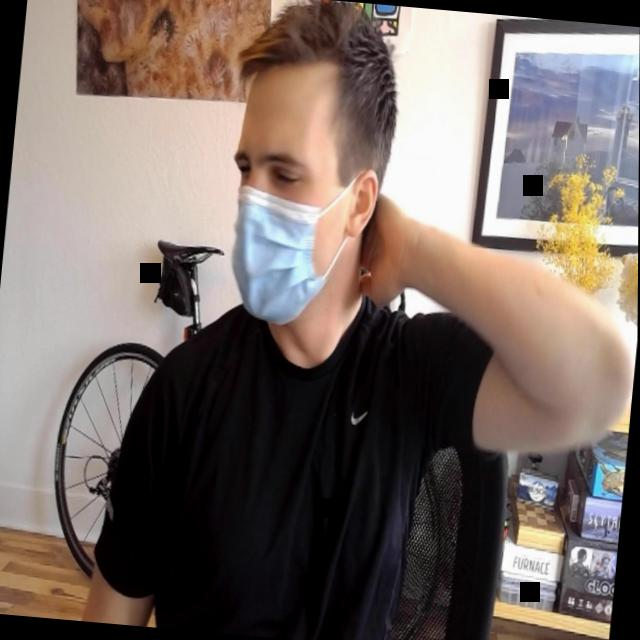Mask: (219, 62, 370, 334)
